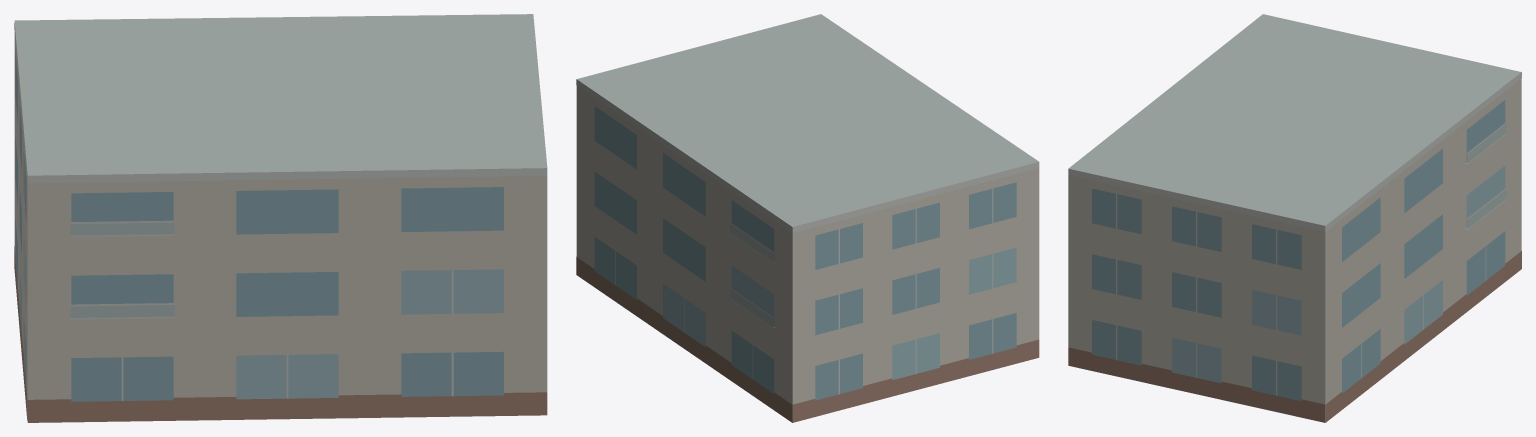
File: survey-upis-32602277.glb
The picture shows the model from 3 angles, left to right: view 1: azimuth 30°, elevation 25°; view 2: azimuth 150°, elevation 25°; view 3: azimuth 270°, elevation 25°; orthographic projection. The views are drawn at different scales.
Parts seen in each view (by area): view 1: survey-upis-32602277.tmp; view 2: survey-upis-32602277.tmp; view 3: survey-upis-32602277.tmp.
Part boxes in pixels (x1,y1,x2,y2): survey-upis-32602277.tmp: (14,14,547,422); survey-upis-32602277.tmp: (576,14,1039,422); survey-upis-32602277.tmp: (1068,14,1521,422).
Bounding box in the file's own units: 18 × 7.8 × 16.28.
